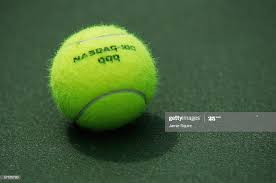tennis_ball: (47, 22, 160, 133)
